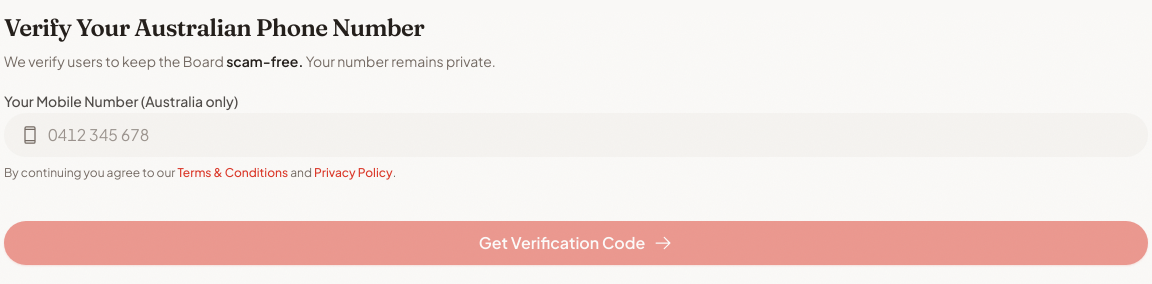
SmsOtpSignIn › Phone Number Validation › should enable send button for valid Australian mobile number
Type "0412345678" into the field with placeholder "0412 345 678" at [576, 135], box [4,113,1148,157]
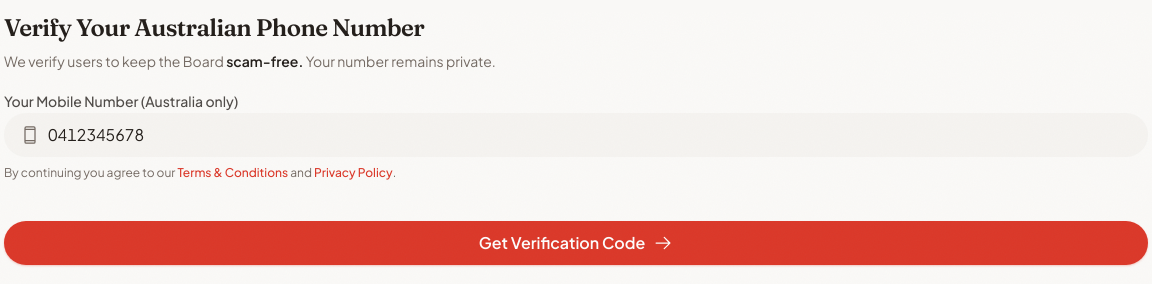
Expected: the button "Get Verification Code" is enabled, [4,221,1148,265]
